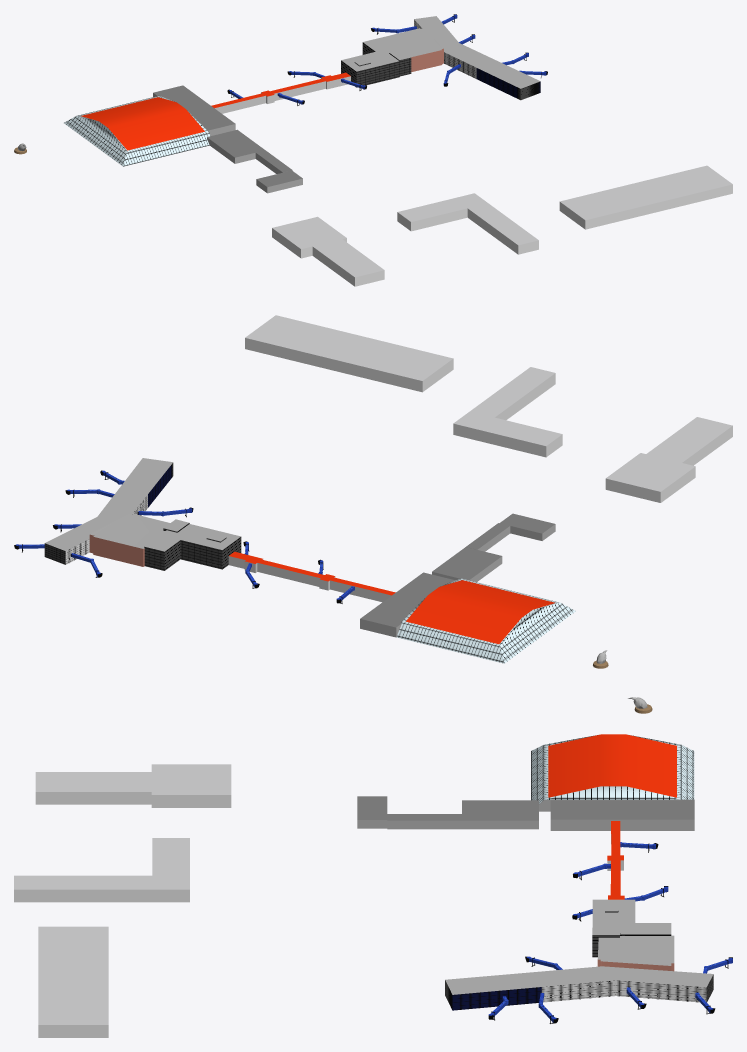
Rendered from bikf.glb.
3 renders of one model, top to bottom at view 1: azimuth 30°, elevation 25°; view 2: azimuth 150°, elevation 25°; view 3: azimuth 270°, elevation 25°, orthographic. The views are drawn at different scales.
Parts seen in each view (by area): view 1: Merged Objects 1, Buffer Object 11, Buffer Object 1, Buffer Object 2, Buffer Object 3, Buffer Object 7, Buffer Object 9, Buffer Object 10, Buffer Object 8, Merged Objects 9, Buffer Object 4, Buffer Object 5 (+4 smaller); view 2: Merged Objects 1, Buffer Object 11, Buffer Object 1, Buffer Object 2, Buffer Object 3, Buffer Object 7, Buffer Object 9, Buffer Object 10, Buffer Object 8, Merged Objects 9, Buffer Object 4, Buffer Object 5 (+3 smaller); view 3: Merged Objects 1, Buffer Object 11, Buffer Object 1, Buffer Object 2, Buffer Object 7, Buffer Object 9, Buffer Object, Buffer Object 3, Merged Objects 8, Buffer Object 4, Buffer Object 8, Merged Objects 2 (+2 smaller).
Boxes of the visible parts, bbox=[...] form: Merged Objects 1: bbox=[341, 16, 540, 88]; Buffer Object 11: bbox=[560, 165, 732, 220]; Buffer Object 1: bbox=[81, 97, 204, 150]; Buffer Object 2: bbox=[153, 85, 302, 186]; Buffer Object 3: bbox=[64, 96, 210, 166]; Buffer Object 7: bbox=[272, 216, 384, 277]; Buffer Object 9: bbox=[398, 193, 538, 245]; Buffer Object 10: bbox=[559, 184, 732, 229]; Buffer Object 8: bbox=[397, 208, 538, 254]; Merged Objects 9: bbox=[341, 42, 411, 87]; Buffer Object 4: bbox=[272, 228, 384, 286]; Buffer Object 5: bbox=[215, 76, 350, 113]; Merged Objects 1: bbox=[45, 458, 240, 551]; Buffer Object 11: bbox=[245, 315, 453, 380]; Buffer Object 1: bbox=[406, 580, 555, 644]; Buffer Object 2: bbox=[360, 513, 554, 627]; Buffer Object 3: bbox=[396, 578, 575, 663]; Buffer Object 7: bbox=[606, 417, 732, 491]; Buffer Object 9: bbox=[453, 367, 562, 445]; Buffer Object 10: bbox=[245, 338, 453, 392]; Buffer Object 8: bbox=[453, 373, 562, 457]; Merged Objects 9: bbox=[144, 523, 241, 570]; Buffer Object 4: bbox=[605, 426, 732, 502]; Buffer Object 5: bbox=[228, 556, 391, 602]; Merged Objects 1: bbox=[445, 899, 713, 994]; Buffer Object 11: bbox=[38, 926, 108, 1024]; Buffer Object 1: bbox=[548, 734, 676, 797]; Buffer Object 2: bbox=[357, 796, 694, 820]; Buffer Object 7: bbox=[35, 764, 231, 794]; Buffer Object 9: bbox=[14, 838, 189, 889]; Buffer Object: bbox=[357, 800, 694, 830]; Buffer Object 3: bbox=[531, 735, 694, 803]; Merged Objects 8: bbox=[541, 980, 706, 1002]; Buffer Object 4: bbox=[35, 792, 231, 807]; Buffer Object 8: bbox=[14, 889, 189, 902]; Merged Objects 2: bbox=[445, 980, 541, 1010].
Bounding box in the file's own units: 21.37 × 0.7203 × 19.57.
Materials: 33 (11 with a texture image).
